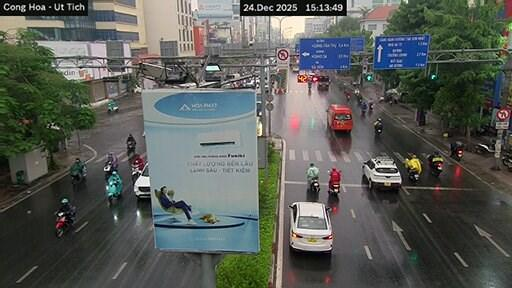motorbike: (55, 212, 72, 237), (106, 179, 122, 203), (70, 165, 86, 184), (475, 138, 495, 153), (450, 141, 463, 160), (428, 161, 442, 176), (131, 164, 142, 183), (103, 162, 114, 180), (502, 153, 511, 171), (328, 181, 340, 194), (309, 177, 319, 192), (452, 147, 462, 160), (408, 169, 418, 182), (107, 102, 118, 113), (127, 142, 135, 155), (374, 125, 382, 135), (360, 106, 366, 114), (368, 102, 373, 111), (345, 93, 350, 101)
